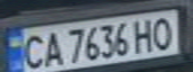3: (97, 21, 118, 60)
6: (112, 19, 136, 56), (81, 24, 103, 62)
7: (63, 25, 84, 64)
A: (39, 29, 66, 69)
C: (18, 30, 48, 71)
H: (130, 16, 160, 53)
O: (148, 13, 178, 51)
